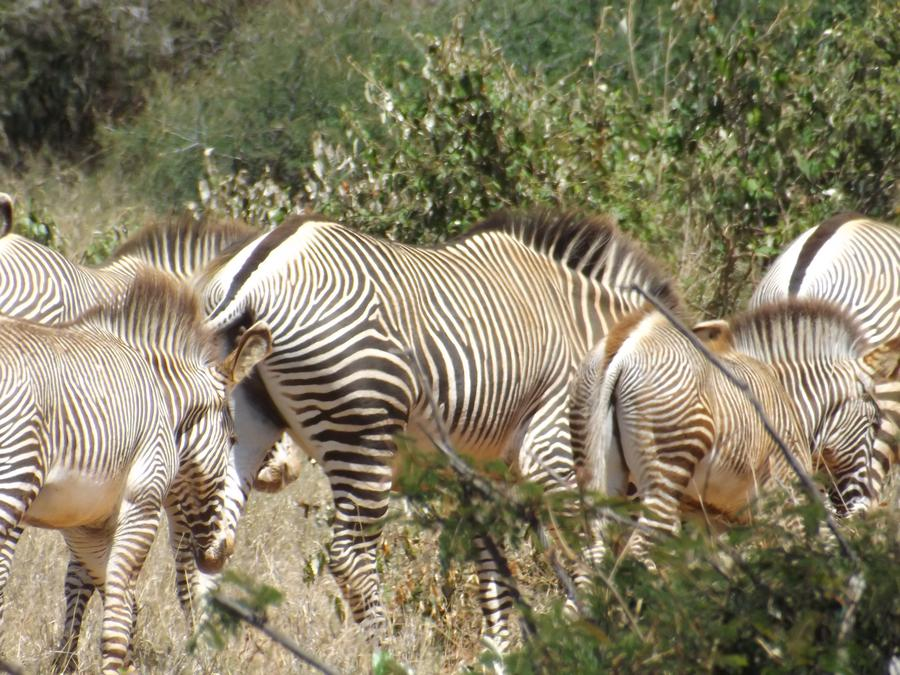zebra_grevys: (206, 195, 570, 464)
